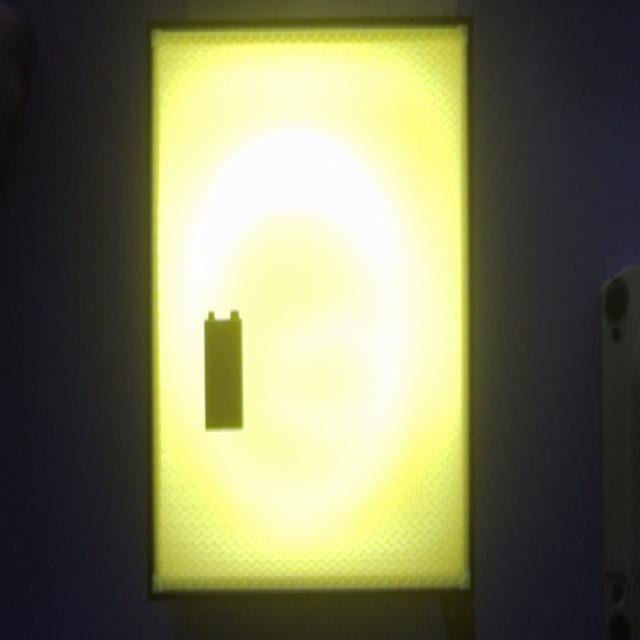bateria: (204, 310, 243, 431)
mesa: (146, 16, 476, 600)
